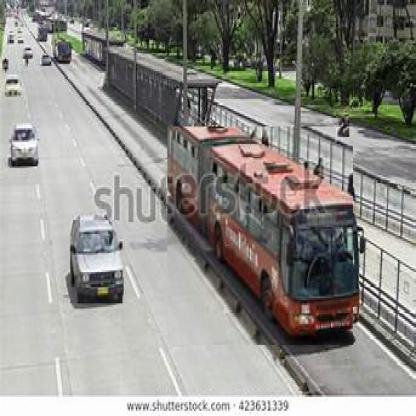bus: (169, 128, 356, 348)
car: (71, 221, 125, 306), (11, 124, 40, 169), (6, 76, 24, 98), (23, 50, 32, 62), (41, 58, 52, 67), (8, 36, 13, 46)
motorbike: (337, 115, 351, 140), (3, 60, 11, 72), (24, 58, 30, 72)
